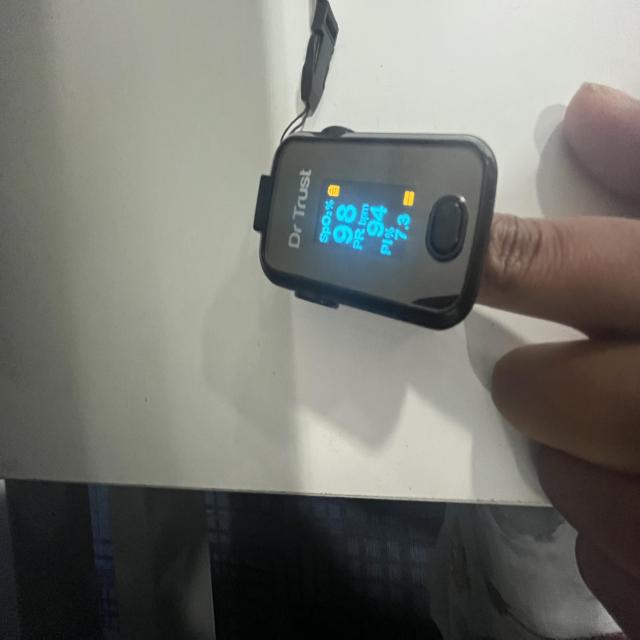spo2: (251, 128, 499, 332)
